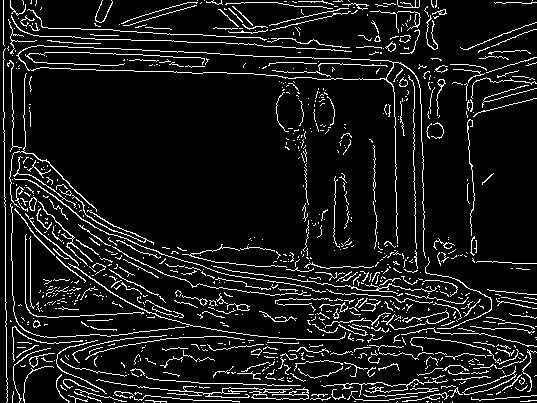cucumber: (4, 138, 499, 341)
